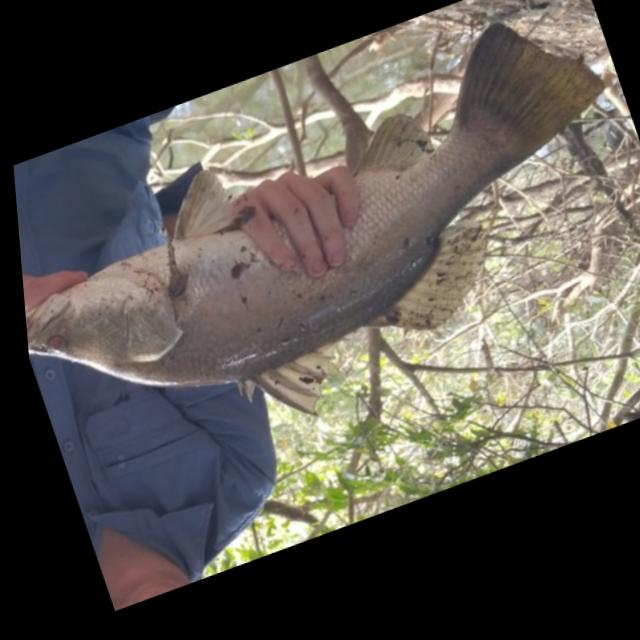Seabass: (5, 0, 640, 510)
